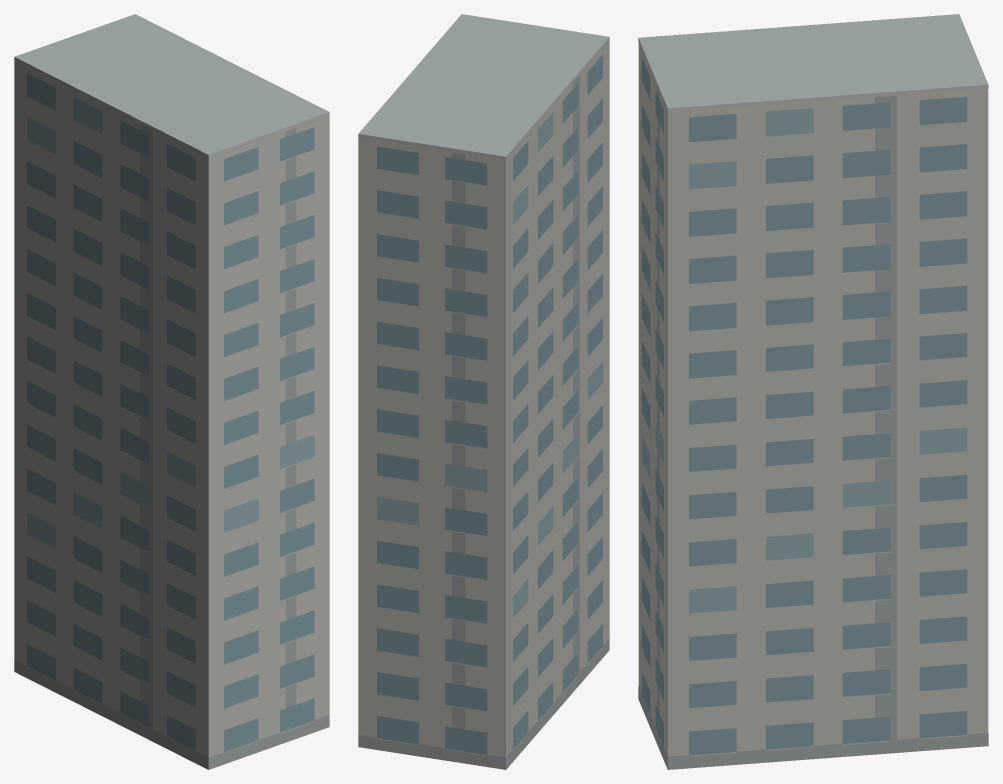
Rendered from residential-4edf0cc9-bf35-4712-af4f-36c5eb9235d4.glb.
3 views of the same model, side by side, from view 1: azimuth 30°, elevation 25°; view 2: azimuth 150°, elevation 25°; view 3: azimuth 270°, elevation 25° (orthographic). The views are drawn at different scales.
Visible parts, largest first — view 1: residential-4edf0cc9-bf35-4712-af4f-36c5eb9235d4.tmp; view 2: residential-4edf0cc9-bf35-4712-af4f-36c5eb9235d4.tmp; view 3: residential-4edf0cc9-bf35-4712-af4f-36c5eb9235d4.tmp.
Boxes of the visible parts, bbox=[...] form: residential-4edf0cc9-bf35-4712-af4f-36c5eb9235d4.tmp: bbox=[14, 14, 329, 769]; residential-4edf0cc9-bf35-4712-af4f-36c5eb9235d4.tmp: bbox=[358, 14, 609, 769]; residential-4edf0cc9-bf35-4712-af4f-36c5eb9235d4.tmp: bbox=[638, 14, 988, 769].
Bounding box in the file's own units: 11.95 × 39 × 18.71.
